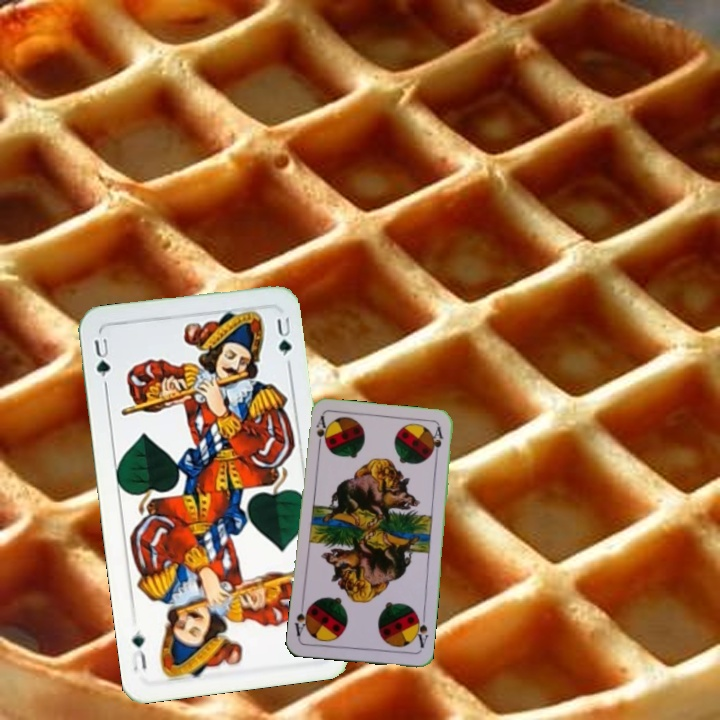GU: (90, 334, 113, 380)
SA: (410, 611, 431, 650), (312, 412, 330, 453)
